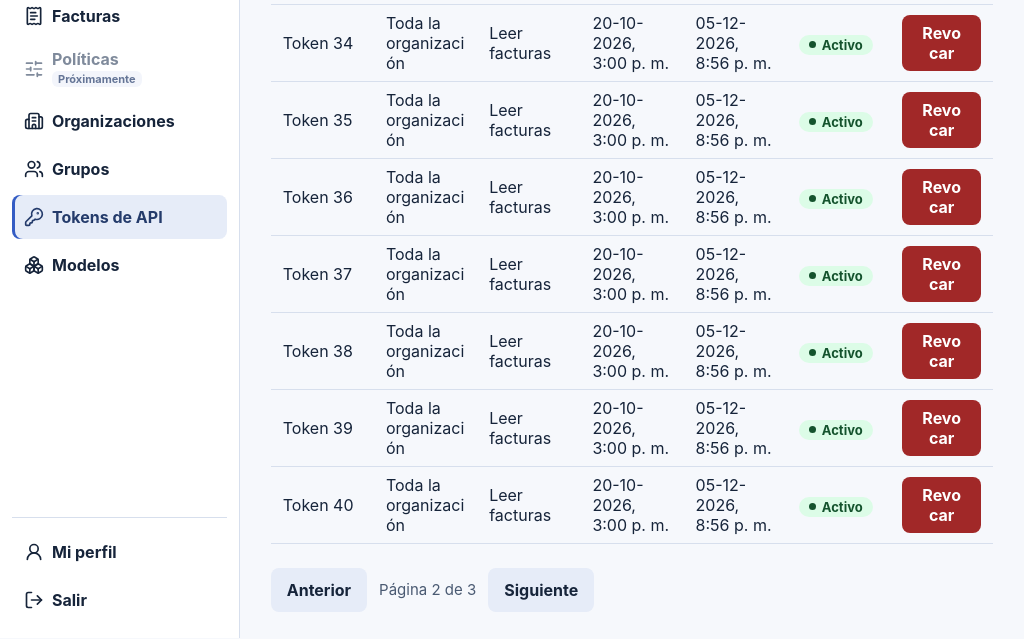
token list (AC-12) › asks the API for the page in the URL and moves with Anterior / Siguiente
The image size is (1024, 639).
(page scrolled)
Check: the text "Página 2 de 3" is shown, box [379,578,476,602]
Click the button "Siguiente": (541, 590) [488,568,594,612]
(page scrolled)
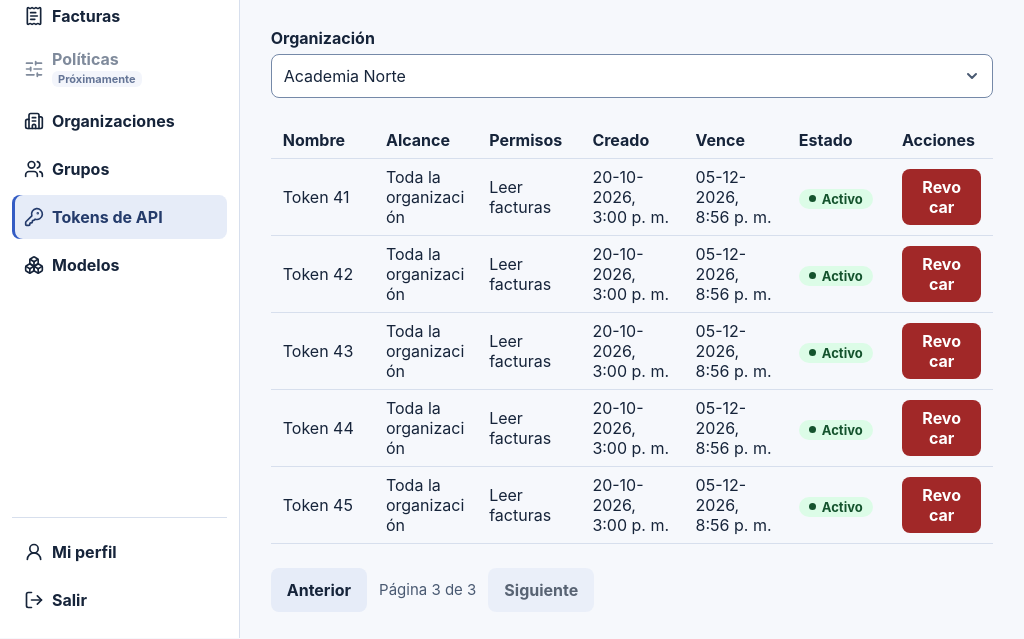
Click the button "Anterior": (319, 590) [271,568,367,612]
(page scrolled)
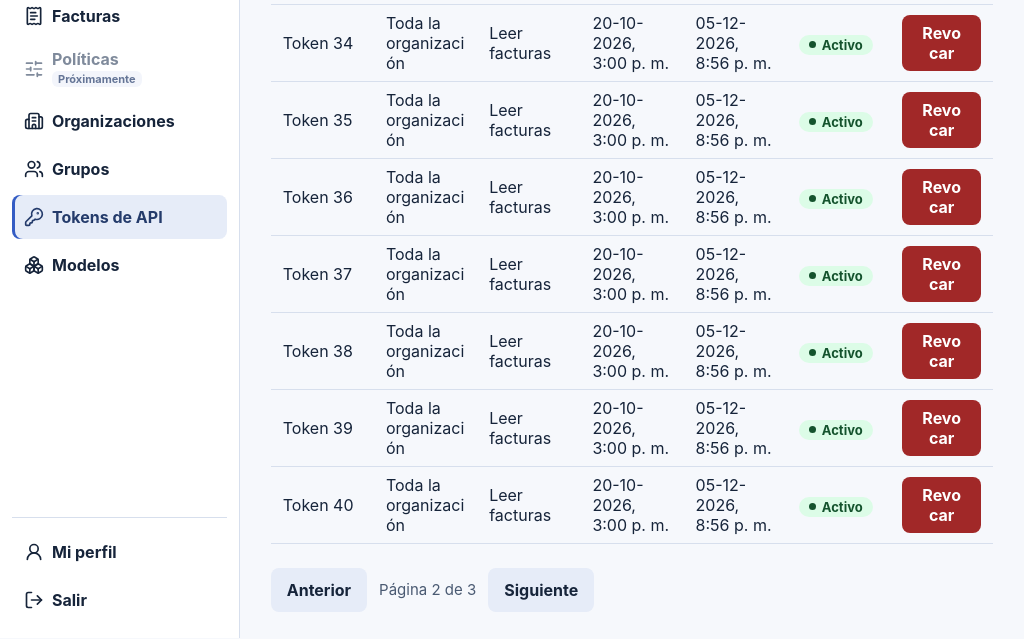
Click the button "Anterior": (319, 590) [271,568,367,612]
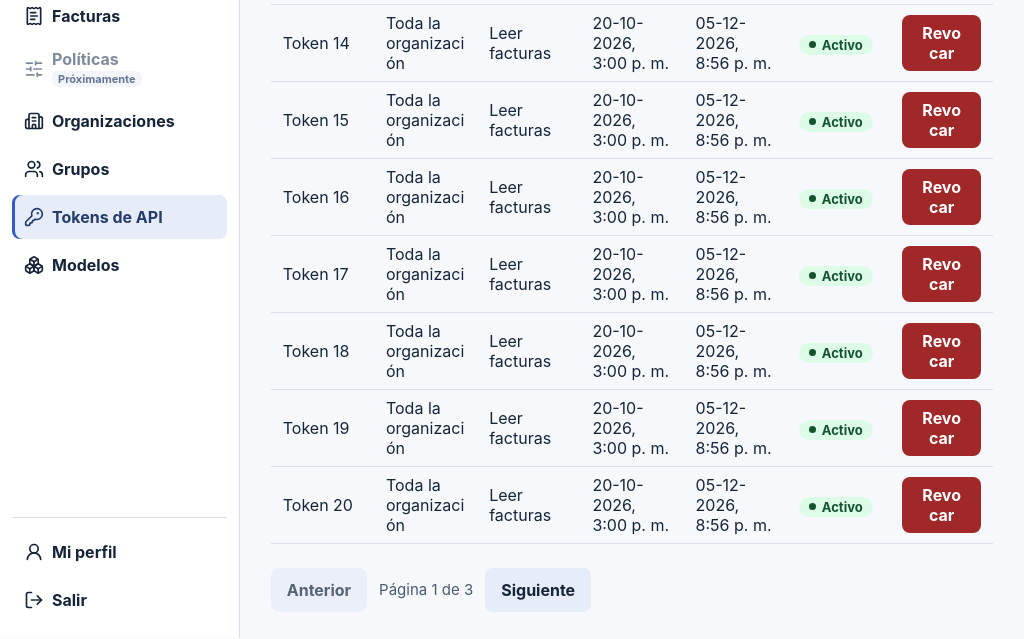
Check: the text "Página 1 de 3" is shown, box [379,578,473,602]
